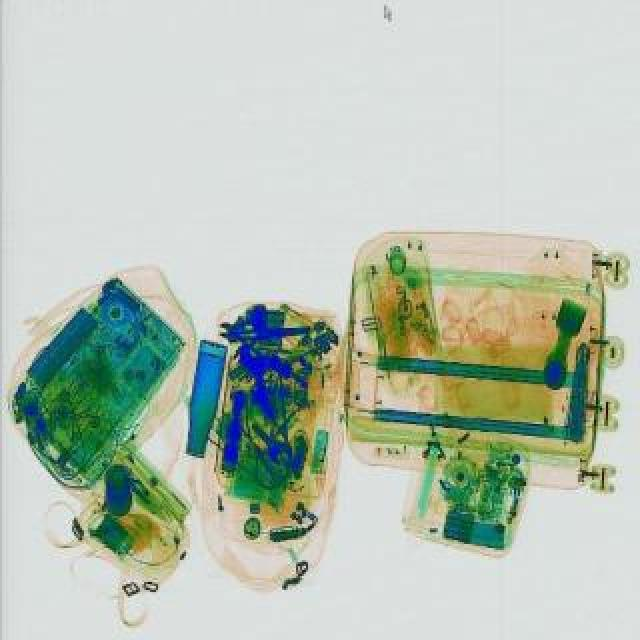scissors: (244, 414, 300, 466)
